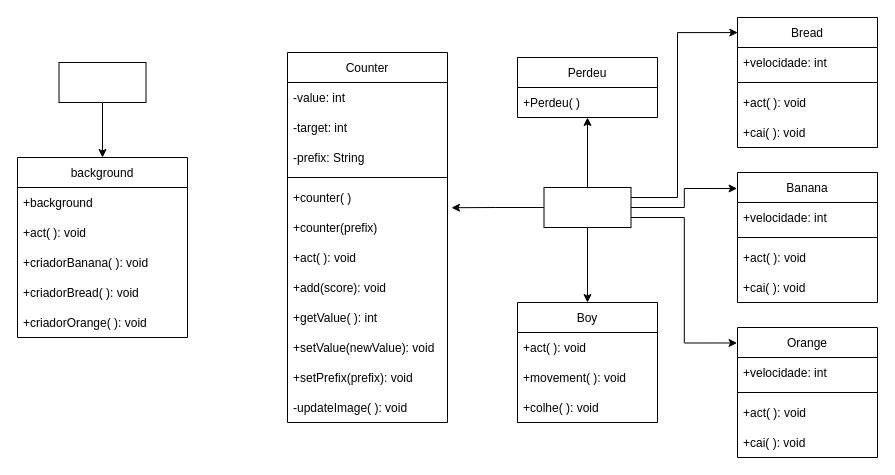
Image size: 895x475. Some labels were removed from this diagram. Here are the shapes that lost their labels. From the top down, the centre of each, then its label:
(102,82): WORLD
(587,207): ACTOR
